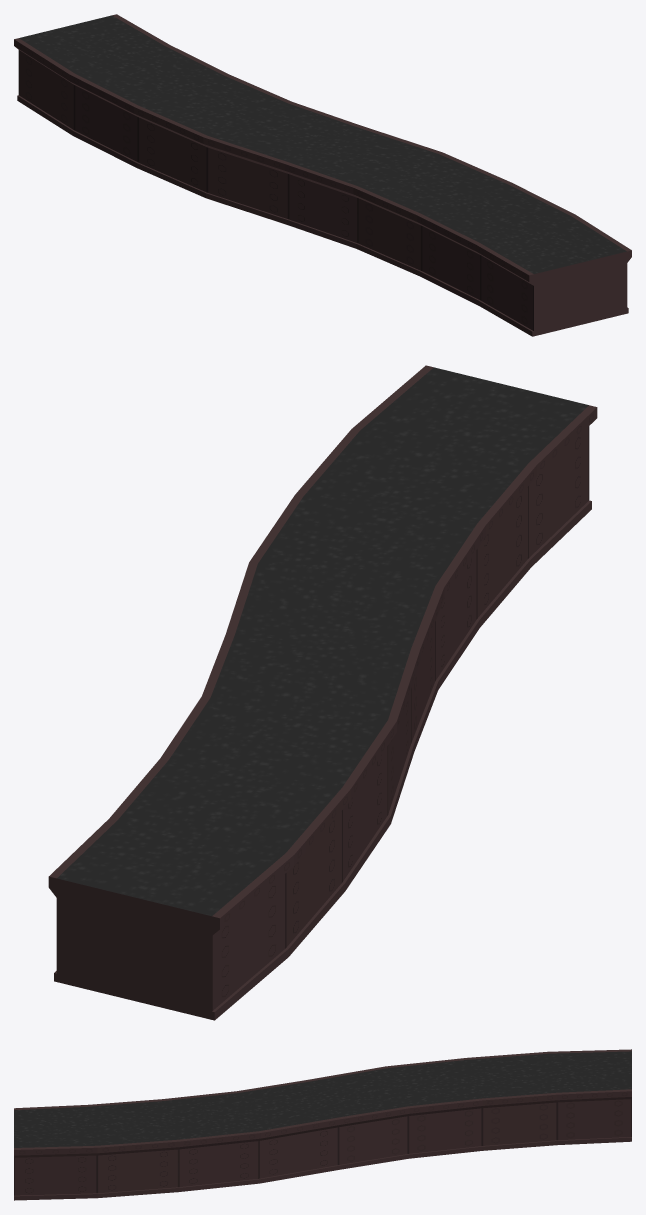
Rendered from SW_ENV_EL_TrackBase_Jog_20m.fbx.
3 views of the same model, one above another, from view 1: azimuth 30°, elevation 25°; view 2: azimuth 150°, elevation 25°; view 3: azimuth 270°, elevation 25° (orthographic). The views are drawn at different scales.
Parts seen in each view (by area): view 1: SW_ENV_EL_TrackBase_Jog_20m; view 2: SW_ENV_EL_TrackBase_Jog_20m; view 3: SW_ENV_EL_TrackBase_Jog_20m.
Boxes of the visible parts, box(x1,y1,x2,y2) form: SW_ENV_EL_TrackBase_Jog_20m: box(14, 14, 631, 336); SW_ENV_EL_TrackBase_Jog_20m: box(48, 365, 597, 1020); SW_ENV_EL_TrackBase_Jog_20m: box(14, 1049, 631, 1200).
Size of the model in its own units: 770 by 185 by 2000.
